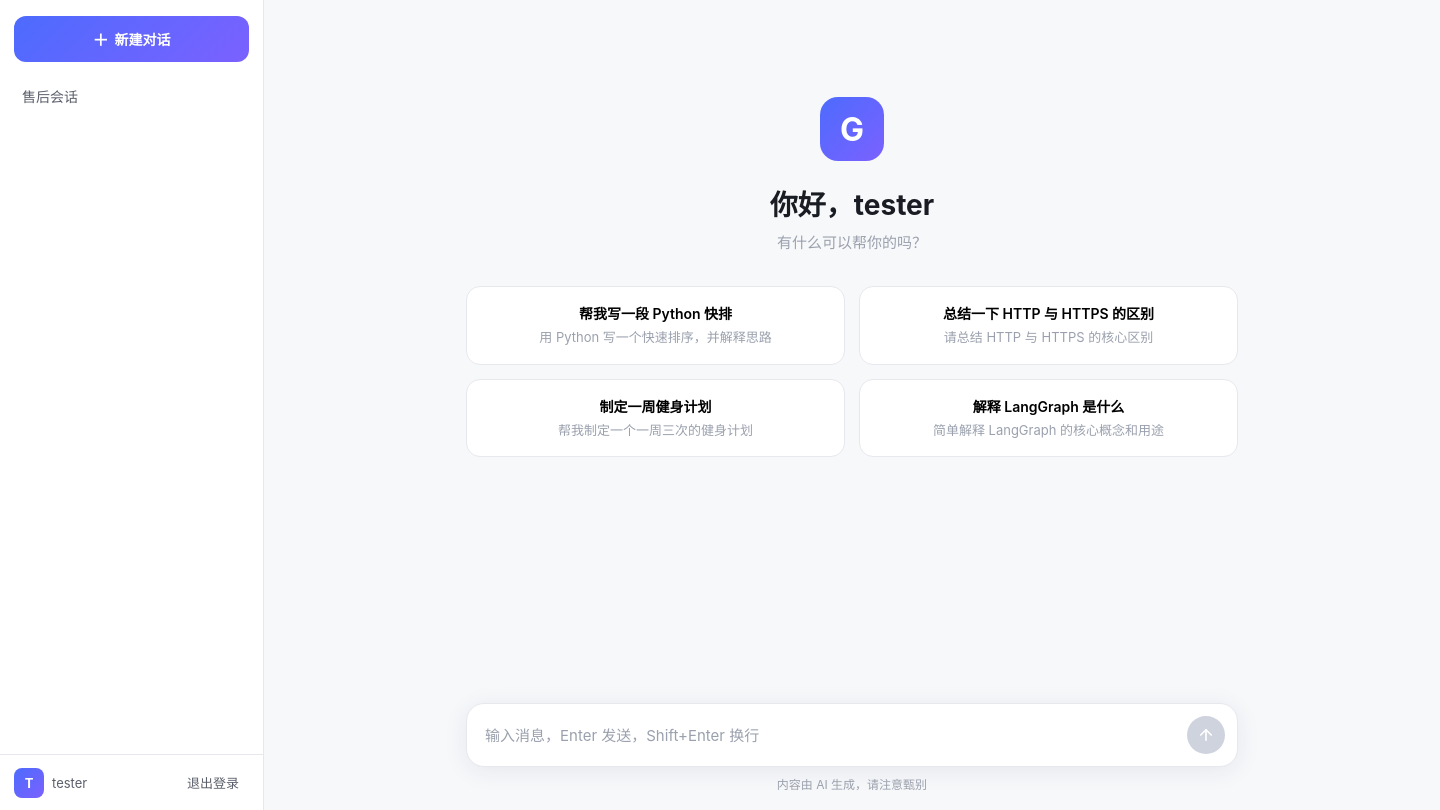
Test case: ChatPage 会话级缺口检测与静默重拉合并 › 空闲缺口：seq 跳变触发一次静默重拉，消息合并为历史形态，提示条出现；连续缺口只拉一次
The width and height of the screenshot is (1440, 810).
Click the text "售后会话": (50, 96) [22,88,78,105]
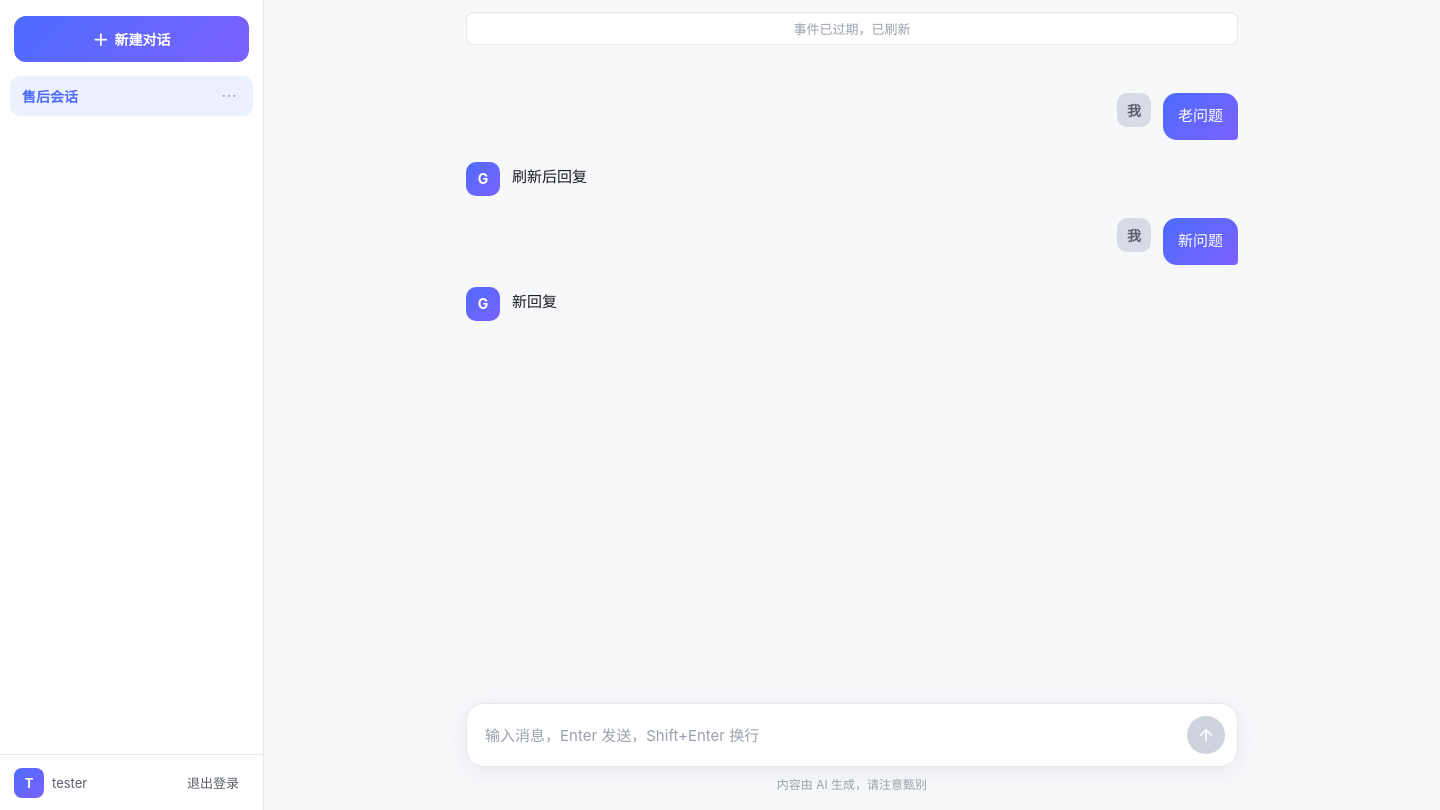
Result: the text "事件已过期，已刷新" is shown at [466,12,1238,45]
Result: the text "刷新后回复" is shown at [512,164,587,189]
Result: the text "新问题" is shown at [1163,218,1238,265]
